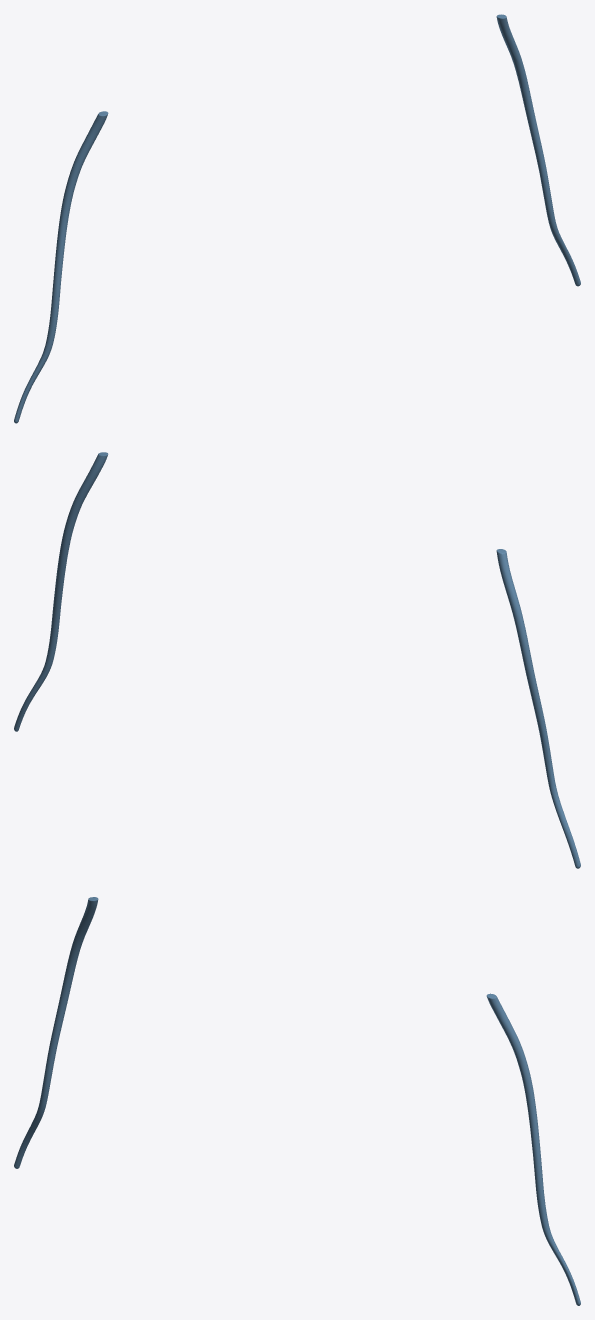
The model's file is brachial-veins.glb.
The picture shows the model from 3 angles, top to bottom: view 1: azimuth 30°, elevation 25°; view 2: azimuth 150°, elevation 25°; view 3: azimuth 330°, elevation 25°; orthographic projection.
Visible parts, largest first — view 1: FMA22935, FMA22936; view 2: FMA22935, FMA22936; view 3: FMA22936, FMA22935.
Part boxes in pixels (bbox=[...]): FMA22935: bbox=[14, 111, 108, 423]; FMA22936: bbox=[496, 14, 580, 286]; FMA22935: bbox=[496, 549, 580, 868]; FMA22936: bbox=[14, 452, 108, 731]; FMA22936: bbox=[486, 993, 580, 1305]; FMA22935: bbox=[14, 897, 98, 1168].
Size of the model in its own units: 4.36 by 2.17 by 0.1454.
